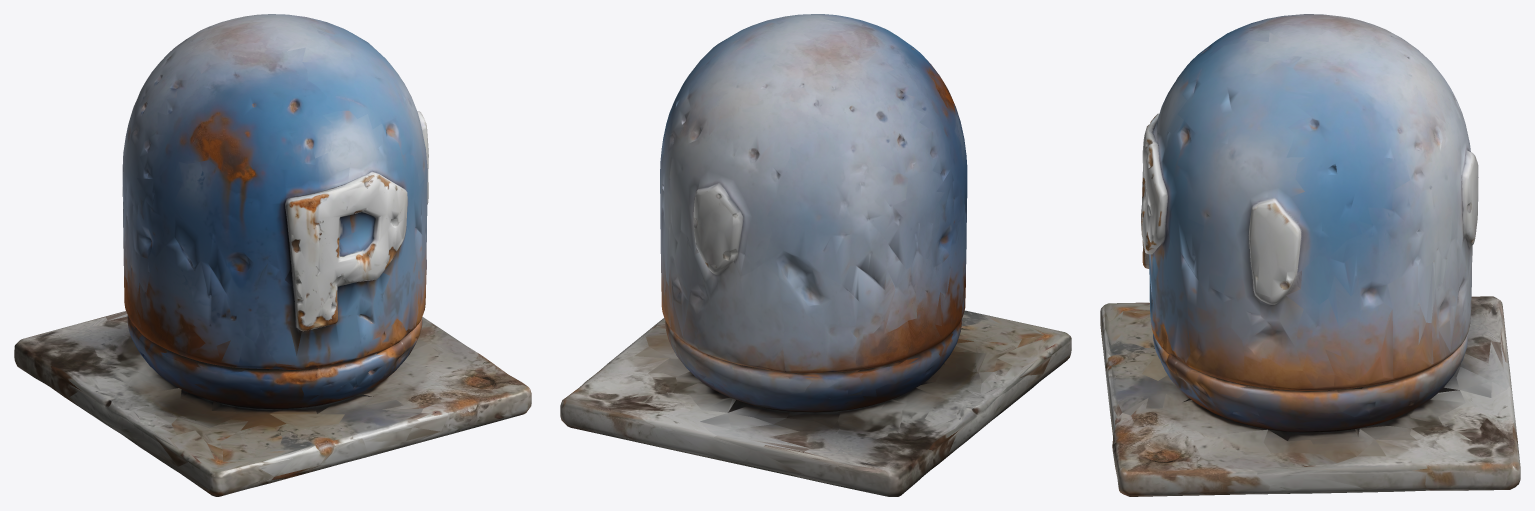
File: rusty_parking_bollard_3d_model.fbx
3 views of the same model, side by side, from view 1: azimuth 30°, elevation 25°; view 2: azimuth 150°, elevation 25°; view 3: azimuth 270°, elevation 25° (orthographic). The views are drawn at different scales.
Visible parts, largest first — view 1: tripo_node_5f212552; view 2: tripo_node_5f212552; view 3: tripo_node_5f212552.
Part boxes in pixels (<box>): tripo_node_5f212552: <box>14,14,531,496</box>; tripo_node_5f212552: <box>560,14,1071,496</box>; tripo_node_5f212552: <box>1100,14,1520,496</box>.
Size of the model in its own units: 0.98 by 0.9786 by 0.9784.
